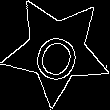O_NE: (27, 19, 86, 83)
